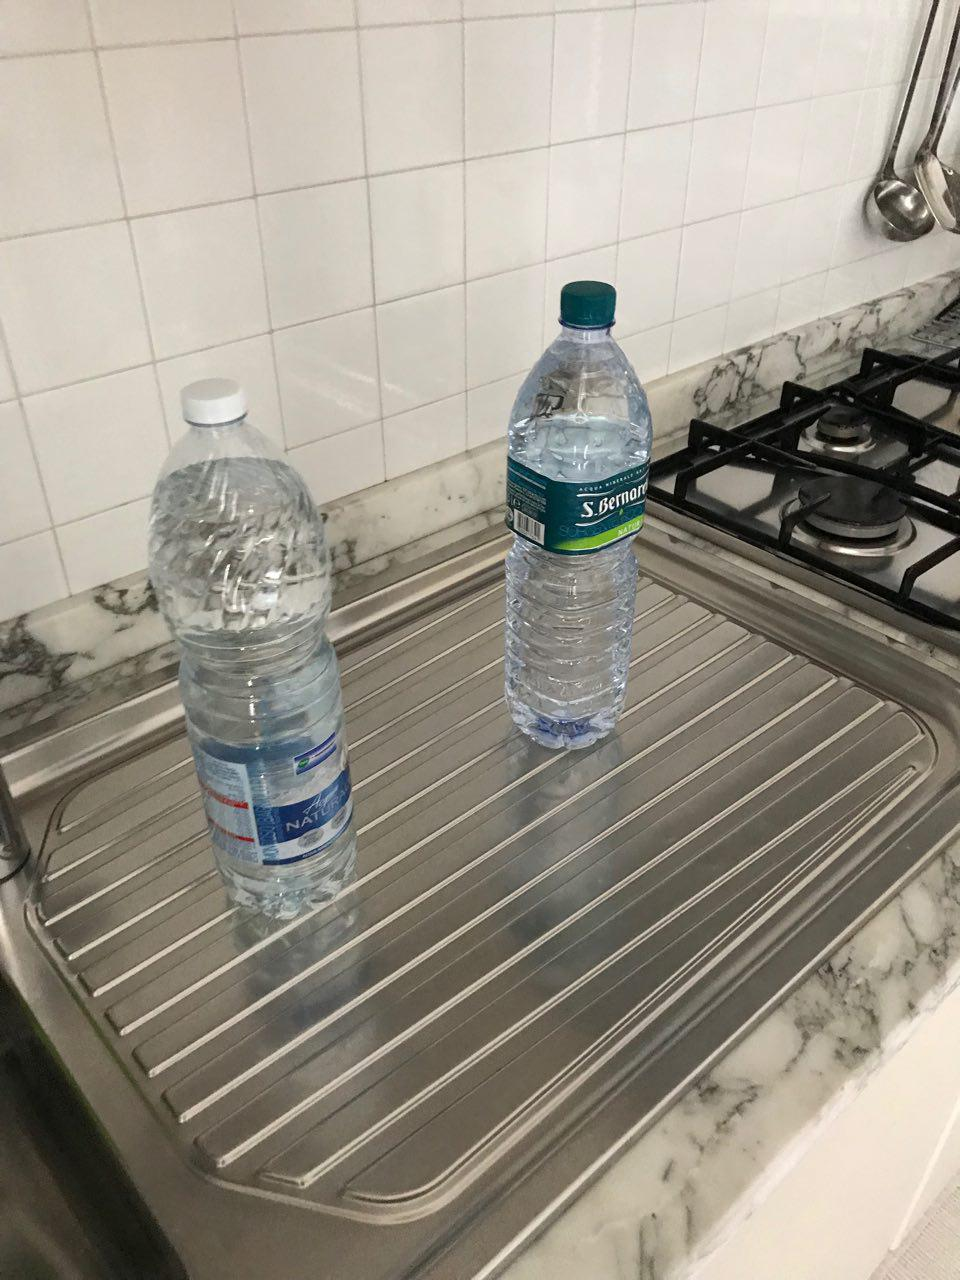san_bernardo: (503, 279, 655, 752)
